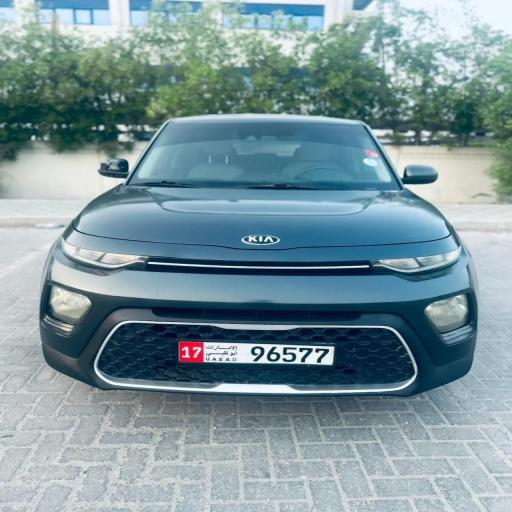license-plates: (178, 341, 335, 365)
